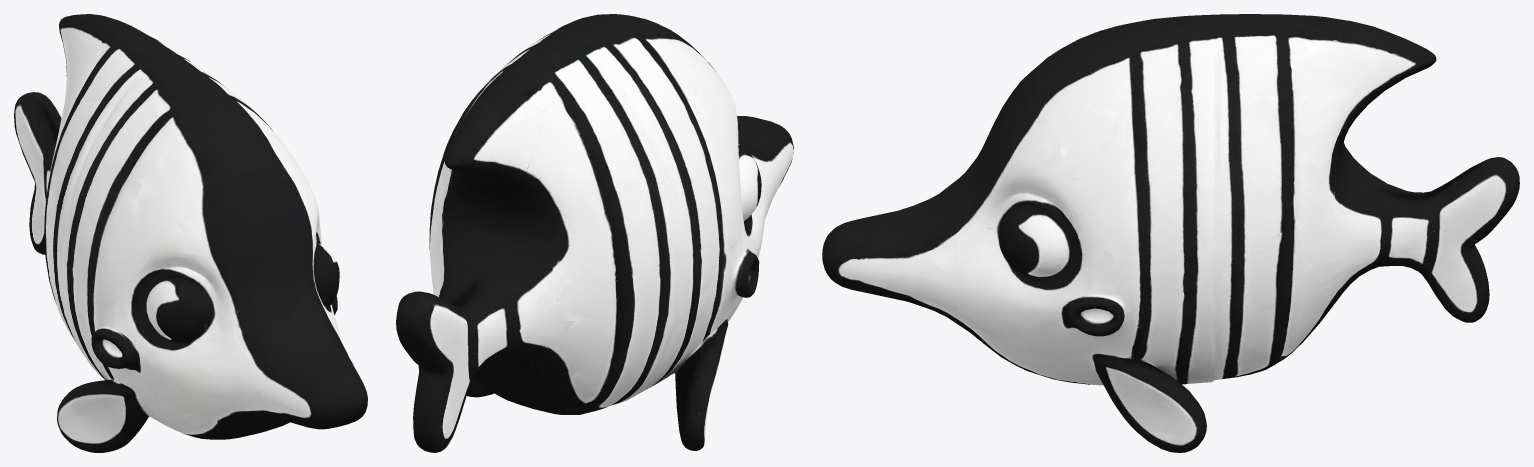
Rendered from beak.glb.
3 views of the same model, side by side, from view 1: azimuth 30°, elevation 25°; view 2: azimuth 150°, elevation 25°; view 3: azimuth 270°, elevation 25° (orthographic). The views are drawn at different scales.
Parts seen in each view (by area): view 1: model; view 2: model; view 3: model.
Part boxes in pixels (x1,y1,x2,y2): model: (14, 14, 367, 452); model: (396, 14, 793, 452); model: (822, 14, 1519, 452).
Size of the model in its own units: 0.7973 by 1.15 by 1.9.
1 material, 1 textured.
